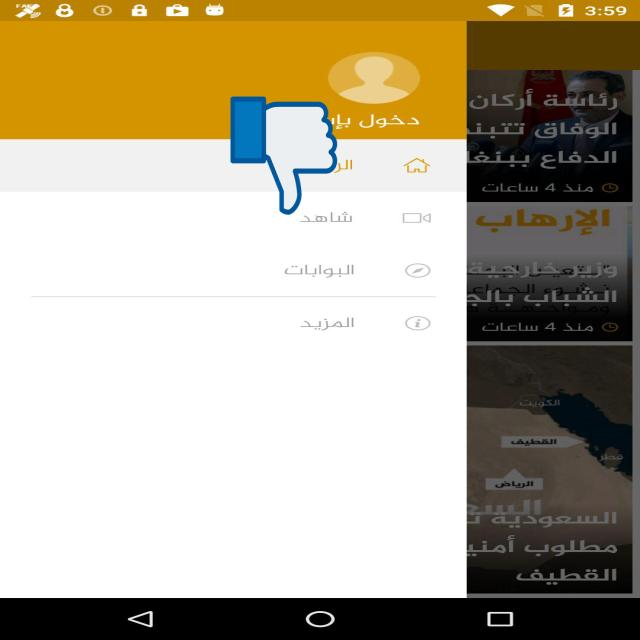obstruction: (231, 94, 337, 217)
